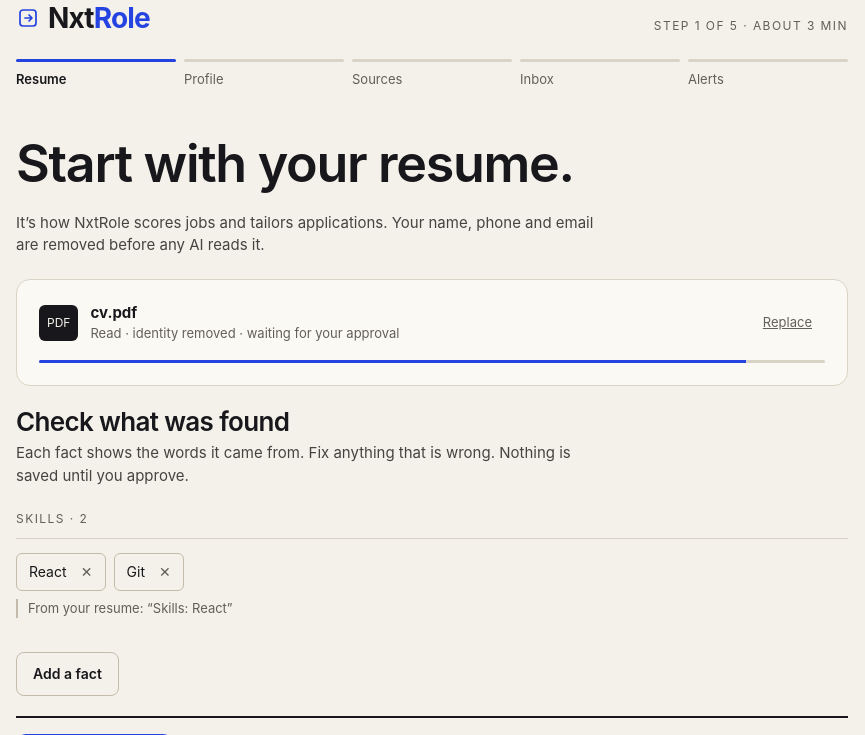
Test: onboarding step 1 with the API › approves only what the owner kept, and can undo
The image size is (865, 735).
Expected: the heading "Check what was found" is shown, [16,406,289,436]
Click the button named "Remove Git".
click(165, 572)  # box [151,558,179,586]
(page scrolled)
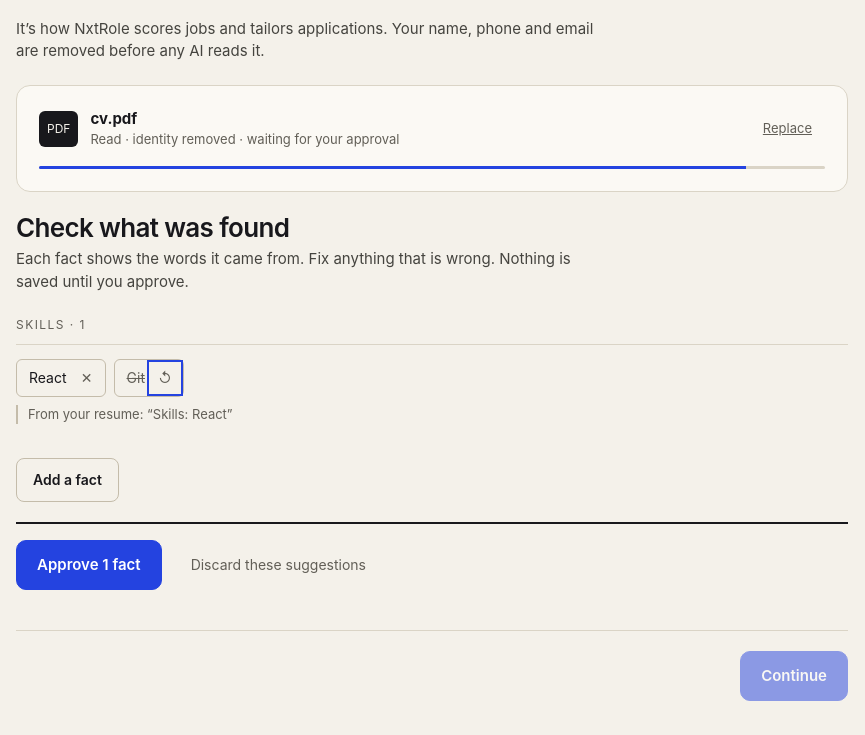
Click the button "Approve 1 fact".
click(89, 565)  # box [16,540,162,590]
(page scrolled)
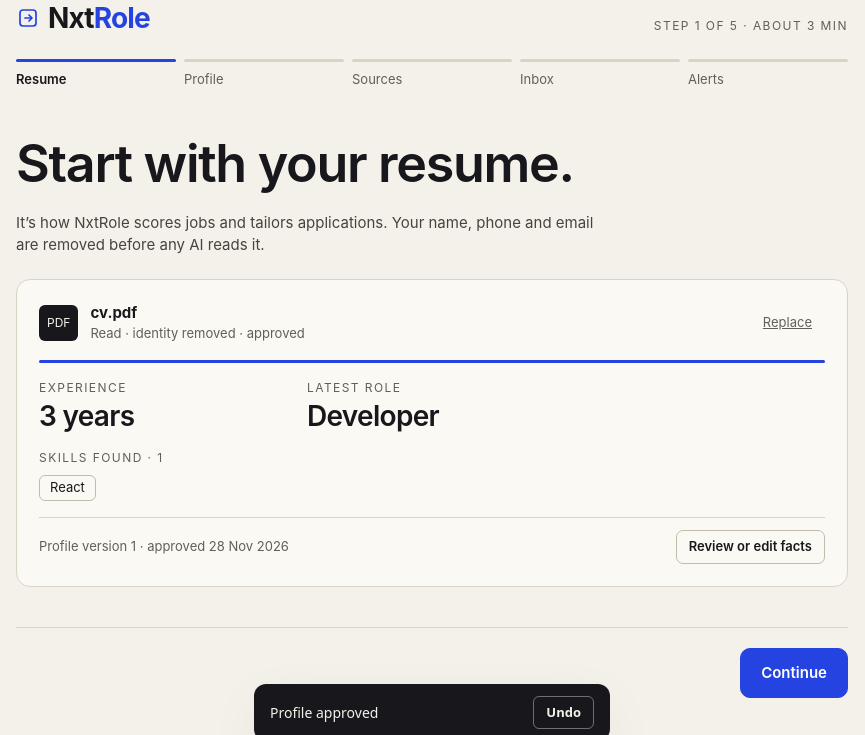
Expected: the text "Profile approved" is shown, [270,703,378,723]
Expected: the button "Continue" is enabled, [740,648,848,698]
Click the button "Undo".
click(564, 713)  # box [533,696,594,729]
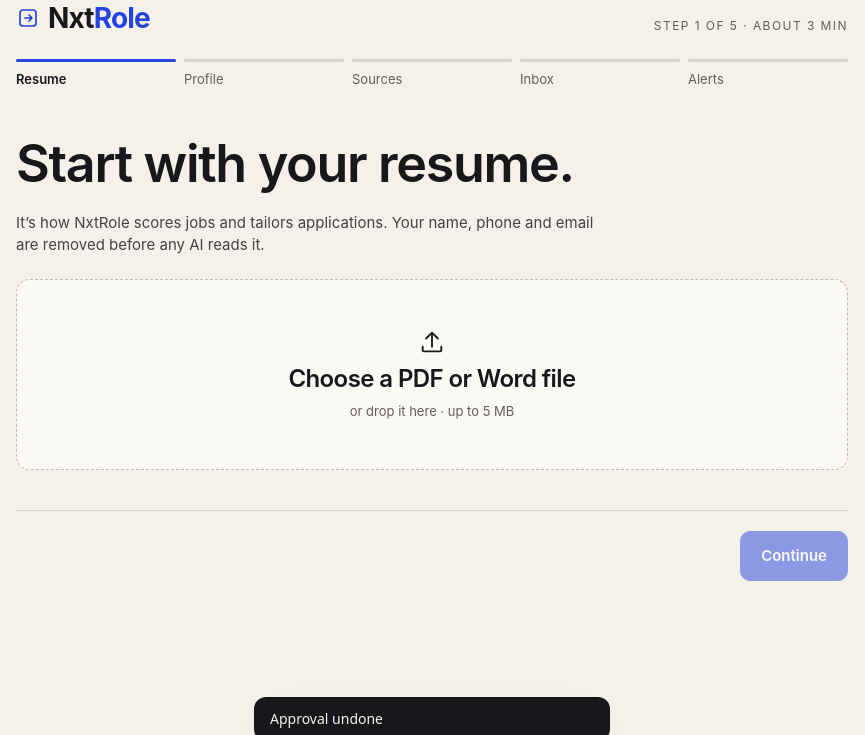
Expected: the text "Approval undone" is shown, [270,709,383,729]
Expected: the file field named "Upload your resume" is shown, [16,278,848,470]
